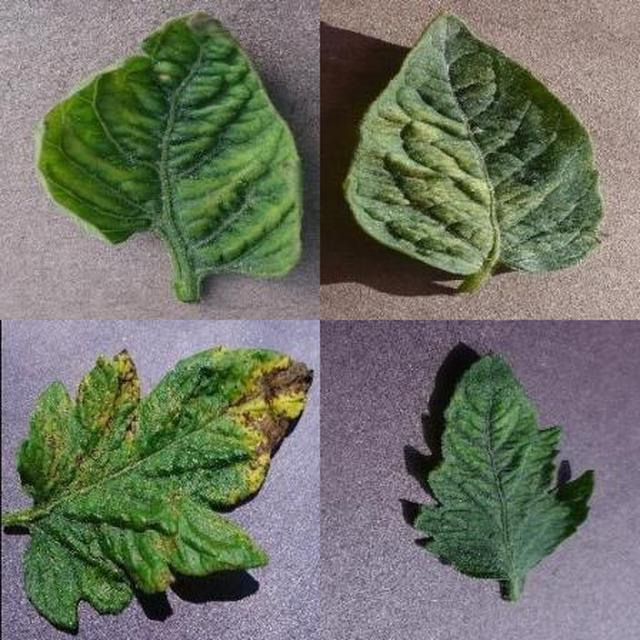Yellow Leaf Curl Virus: (238, 204, 640, 640)
